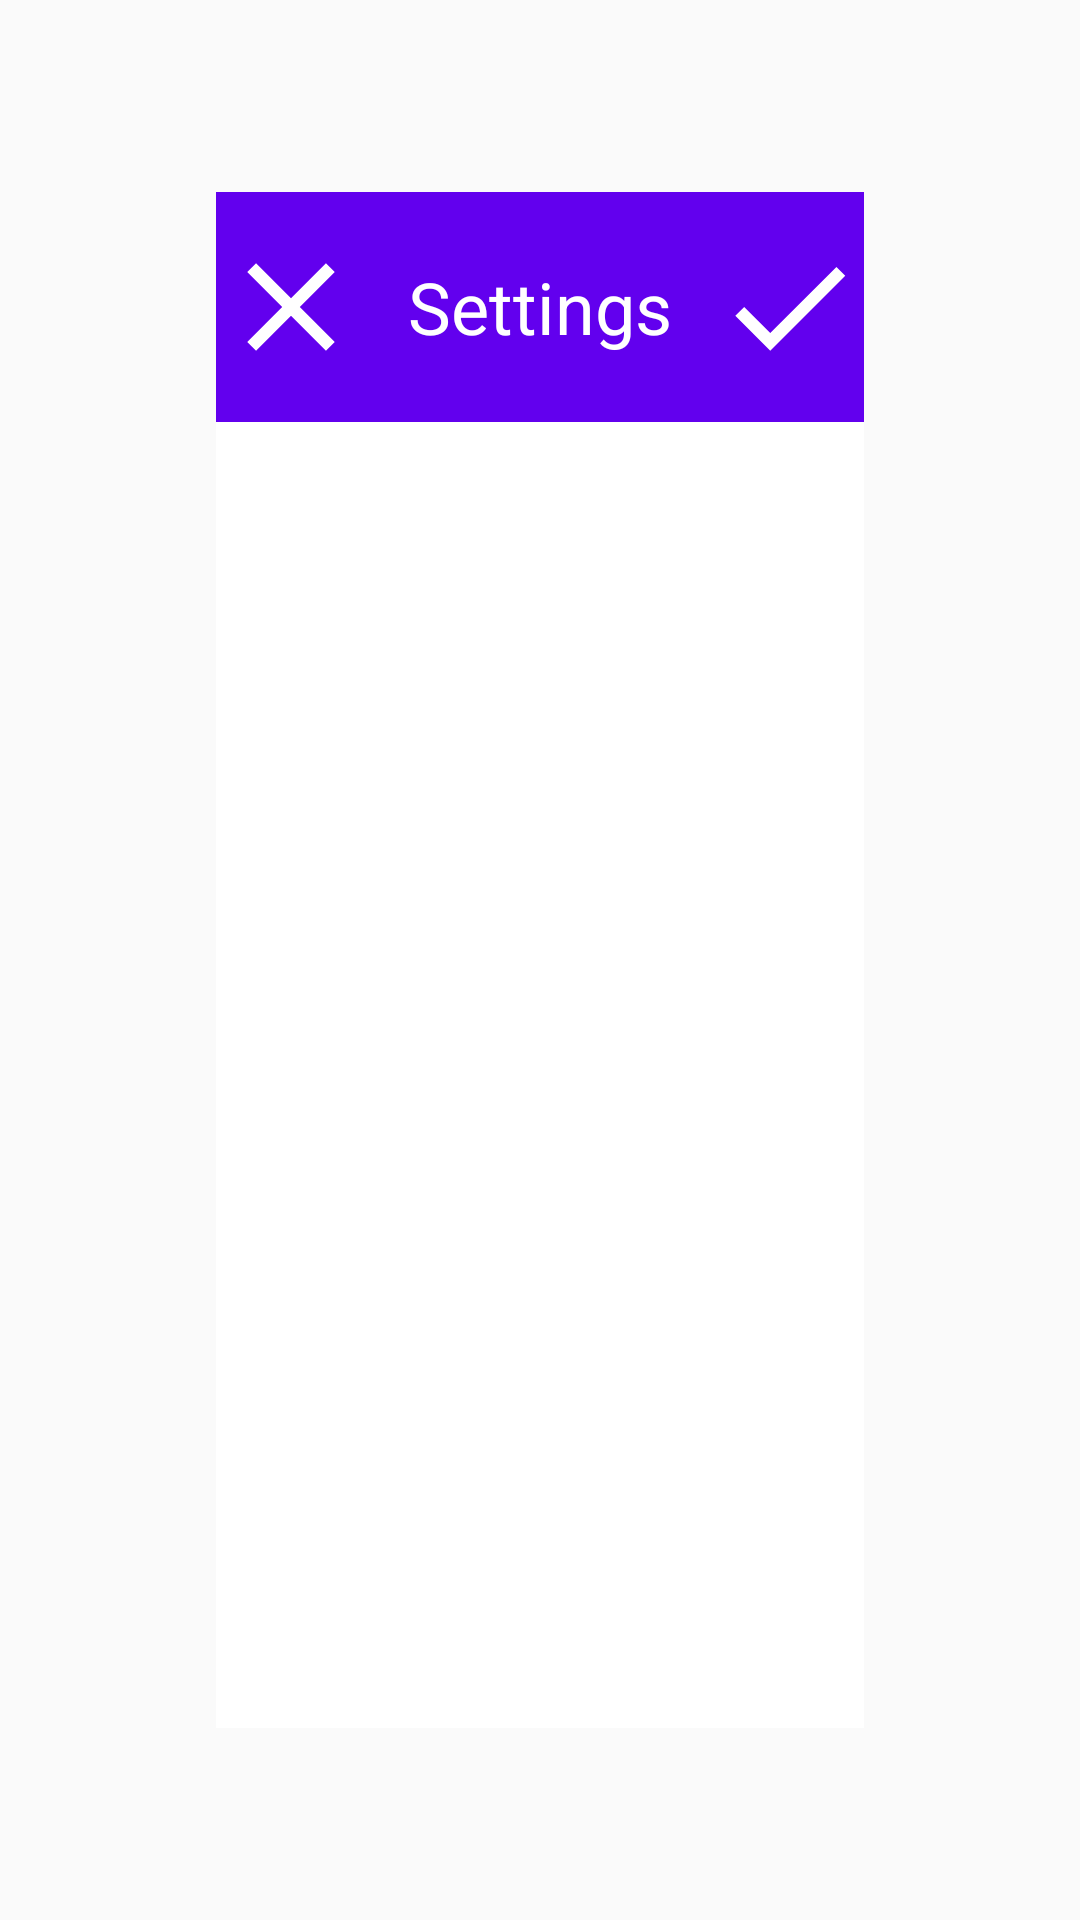

Named icons in this screenshot (1080*1920) and their centers, (x,y):
clear: (291,307)
Done: (790,309)
